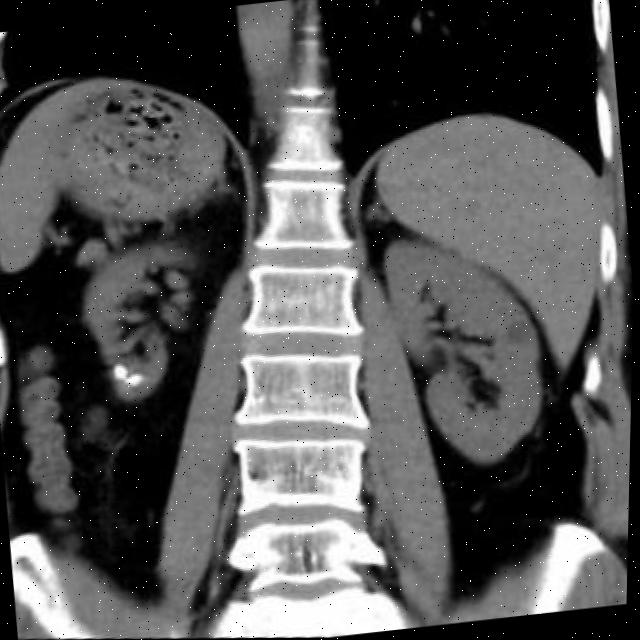Tas_Var: (111, 362, 132, 384), (126, 370, 149, 390)
